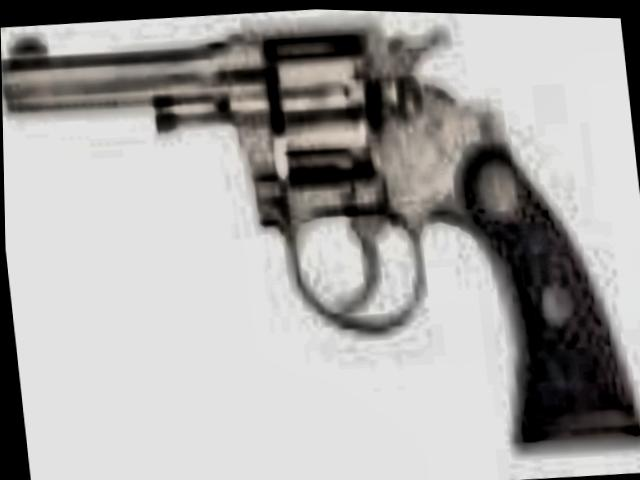pistol: (0, 0, 637, 480)
